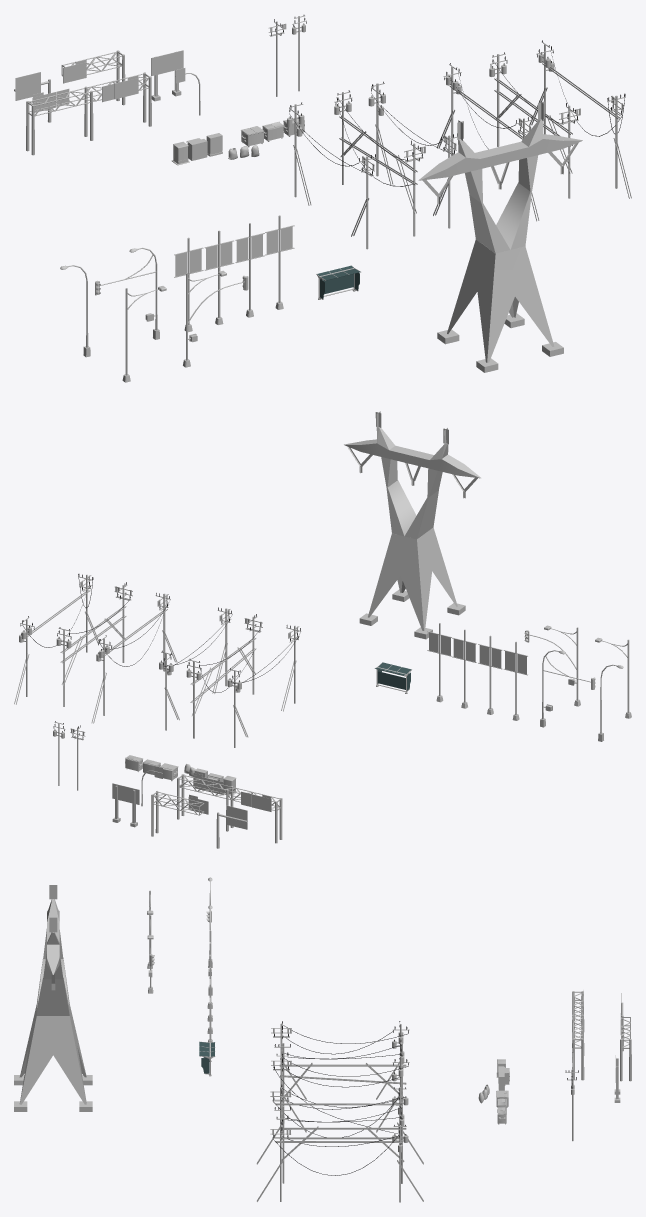
Rendered from cityprops.FBX.
3 views of the same model, one above another, from view 1: azimuth 30°, elevation 25°; view 2: azimuth 150°, elevation 25°; view 3: azimuth 270°, elevation 25° (orthographic). The views are drawn at different scales.
Visible parts, largest first — view 1: Object004, Cylinder005, power_pole_set-4, power_pole_set-1, power_pole_set-6, power_pole_set-2, power_pole_set-3, power_pole_set-7, Cylinder020, bus_stop-1, banner_pole-4, banner_pole-2 (+6 smaller); view 2: Object004, Cylinder005, power_pole_set-4, power_pole_set-1, power_pole_set-7, power_pole_set-6, power_pole_set-3, power_pole_set-2, Cylinder020, bus_stop-1, banner_pole-2, Box020 (+3 smaller); view 3: Object004, power_pole_set-1, power_pole_set-4, power_pole_set-6, power_pole_set-7, power_pole_set-3, power_pole_set-2, Cylinder005, Cylinder020.
Part boxes in pixels (left/top/right/bottom): Object004: left=418, top=100, right=582, bottom=372; Cylinder005: left=26, top=72, right=151, bottom=155; power_pole_set-4: left=334, top=90, right=425, bottom=236; power_pole_set-1: left=489, top=52, right=580, bottom=198; power_pole_set-6: left=529, top=40, right=631, bottom=198; power_pole_set-2: left=287, top=102, right=376, bottom=249; power_pole_set-3: left=368, top=81, right=457, bottom=228; power_pole_set-7: left=436, top=63, right=539, bottom=221; Cylinder020: left=61, top=50, right=125, bottom=105; bus_stop-1: left=316, top=265, right=360, bottom=299; banner_pole-4: left=265, top=215, right=294, bottom=309; banner_pole-2: left=204, top=230, right=234, bottom=324; Object004: left=344, top=411, right=481, bottom=639; Cylinder005: left=177, top=773, right=282, bottom=843; power_pole_set-4: left=186, top=614, right=262, bottom=738; power_pole_set-1: left=56, top=582, right=132, bottom=706; power_pole_set-7: left=91, top=593, right=177, bottom=723; power_pole_set-6: left=14, top=574, right=99, bottom=704; power_pole_set-3: left=159, top=607, right=232, bottom=730; power_pole_set-2: left=227, top=625, right=300, bottom=747; Cylinder020: left=151, top=791, right=208, bottom=836; bus_stop-1: left=374, top=662, right=411, bottom=693; banner_pole-2: left=478, top=635, right=502, bottom=714; Box020: left=112, top=783, right=139, bottom=827; Object004: left=14, top=885, right=92, bottom=1111; power_pole_set-1: left=274, top=1104, right=406, bottom=1183; power_pole_set-4: left=274, top=1040, right=406, bottom=1106; power_pole_set-6: left=257, top=1122, right=423, bottom=1202; power_pole_set-7: left=256, top=1084, right=423, bottom=1164; power_pole_set-3: left=271, top=1053, right=409, bottom=1134; power_pole_set-2: left=271, top=1021, right=409, bottom=1099; Cylinder005: left=572, top=990, right=584, bottom=1080; Cylinder020: left=620, top=1013, right=631, bottom=1081.
Bounding box in the file's own units: 6659 × 7030 × 2500.
